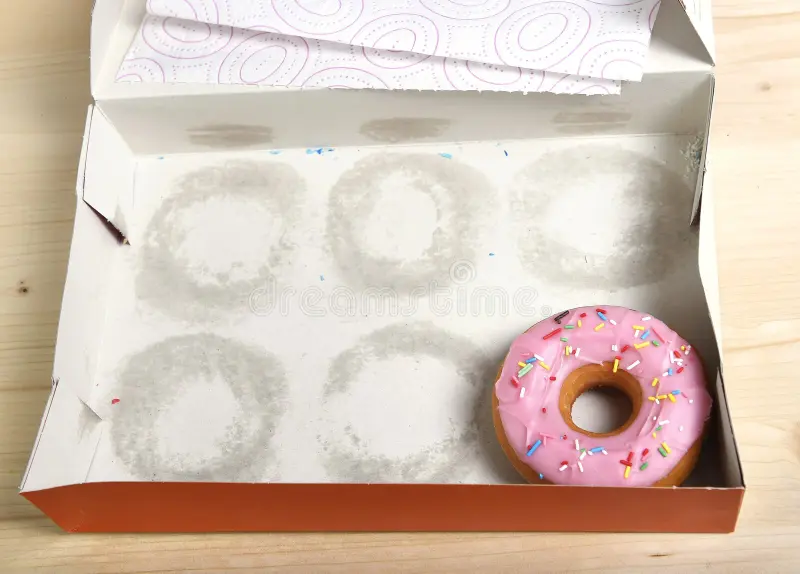Donut: (486, 301, 722, 503)
